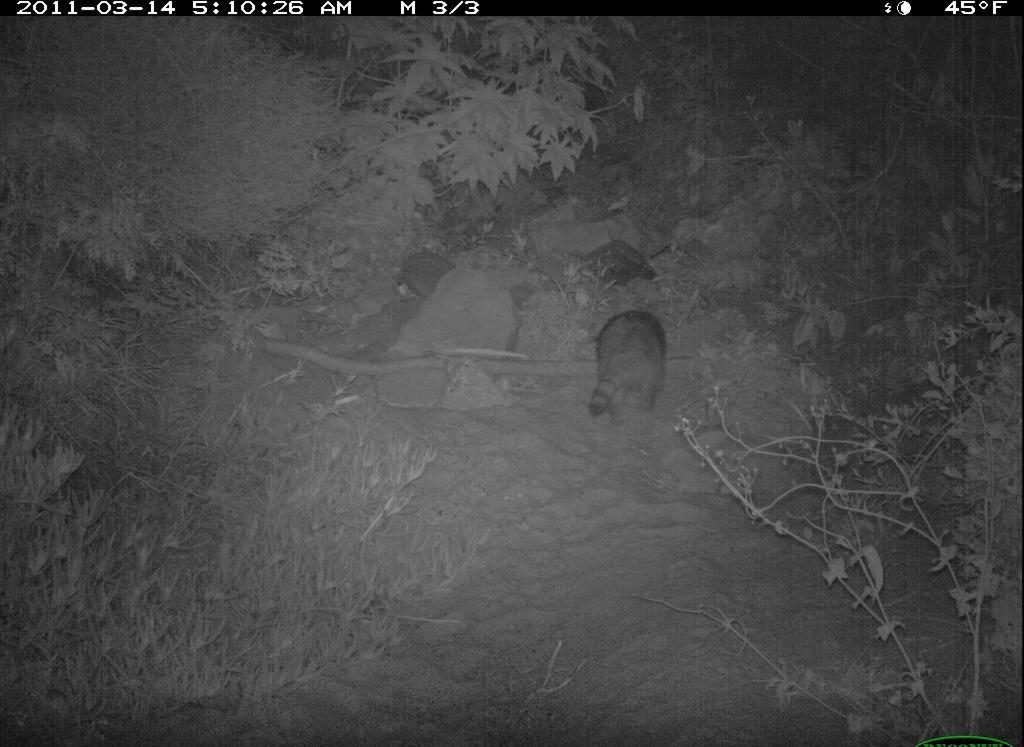raccoon: (589, 307, 680, 427)
